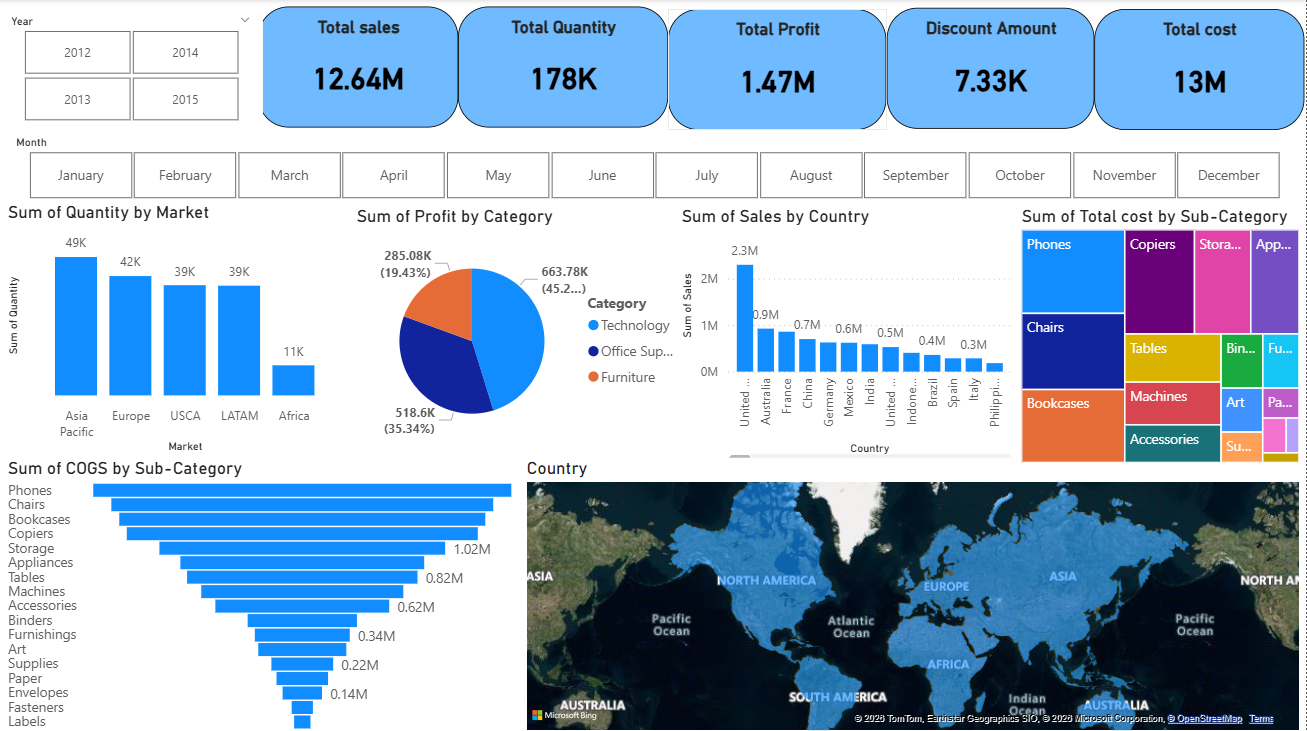

The dashboard page shown, as its layout file describes it:
{"tool":"powerbi","page":{"name":"Page 1","canvas":[1280,720],"ordinal":0},"visuals":[{"type":"card","title":"Total sales","fields":{"Values":["Sum(Orders.Sales)"]},"box":[254.3,7.3,195.7,118.6],"z":0},{"type":"card","title":"Total Quantity","fields":{"Values":["Sum(Orders.Quantity)"]},"box":[450,7.3,205.4,118.6],"z":2000},{"type":"card","title":"Total Profit","fields":{"Values":["Sum(Orders.Profit)"]},"box":[655.4,9.8,214,118.6],"z":3000},{"type":"card","title":"Discount Amount","fields":{"Values":["Sum(Orders.Discount)"]},"box":[869.4,8.6,203,118.6],"z":4000},{"type":"card","title":"Total cost","fields":{"Values":["Sum(Orders.Total cost)"]},"box":[1072.4,9.8,205.4,118.6],"z":5000},{"type":"slicer","fields":{"Values":["Orders.Order Date.Variation.Date Hierarchy.Year"]},"box":[0,9.8,259.2,116.2],"z":5001},{"type":"slicer","fields":{"Values":["Orders.Order Date.Variation.Date Hierarchy.Month"]},"box":[4.9,128.4,1273,73.4],"z":5002},{"type":"clusteredColumnChart","fields":{"Category":["Orders.Market"],"Y":["Sum(Orders.Quantity)"]},"box":[4.9,198.1,332.6,250.7],"z":5003},{"type":"pieChart","fields":{"Category":["Orders.Category"],"Y":["Sum(Orders.Profit)"]},"box":[346.1,201.8,332.6,247],"z":5004},{"type":"clusteredColumnChart","fields":{"Y":["Sum(Orders.Sales)"],"Category":["Orders.Country"]},"box":[664,201.8,332.6,256.8],"z":5005},{"type":"funnel","fields":{"Y":["Sum(Orders.COGS)"],"Category":["Orders.Sub-Category"]},"box":[4.9,448.8,507.5,271.5],"z":5006},{"type":"filledMap","fields":{"Category":["Orders.Country"]},"box":[512.4,448.8,765.5,271.5],"z":5007},{"type":"treemap","fields":{"Values":["Sum(Orders.Total cost)"],"Group":["Orders.Sub-Category"]},"box":[996.6,201.8,281.3,256.8],"z":5008}]}

Visuals, with their boxes in screenshot pixels (x1, y1, x2, y2), scaled from the page's 1280x720 canvas onto the 1307x731 screenshot:
"Total sales" card: <region>260, 7, 459, 128</region>
"Total Quantity" card: <region>459, 7, 669, 128</region>
"Total Profit" card: <region>669, 10, 888, 130</region>
"Discount Amount" card: <region>888, 9, 1095, 129</region>
"Total cost" card: <region>1095, 10, 1305, 130</region>
slicer - Orders.Order Date.Variation.Date Hierarchy.Year: <region>0, 10, 265, 128</region>
slicer - Orders.Order Date.Variation.Date Hierarchy.Month: <region>5, 130, 1305, 205</region>
clusteredColumnChart - Orders.Market x Sum(Orders.Quantity): <region>5, 201, 345, 456</region>
pieChart - Orders.Category x Sum(Orders.Profit): <region>353, 205, 693, 456</region>
clusteredColumnChart - Sum(Orders.Sales) x Orders.Country: <region>678, 205, 1018, 466</region>
funnel - Sum(Orders.COGS) x Orders.Sub-Category: <region>5, 456, 523, 730</region>
filledMap - Orders.Country: <region>523, 456, 1305, 730</region>
treemap - Sum(Orders.Total cost) x Orders.Sub-Category: <region>1018, 205, 1305, 466</region>
